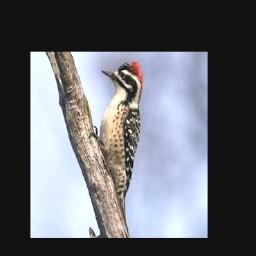Woodpecker: (89, 61, 145, 220)
